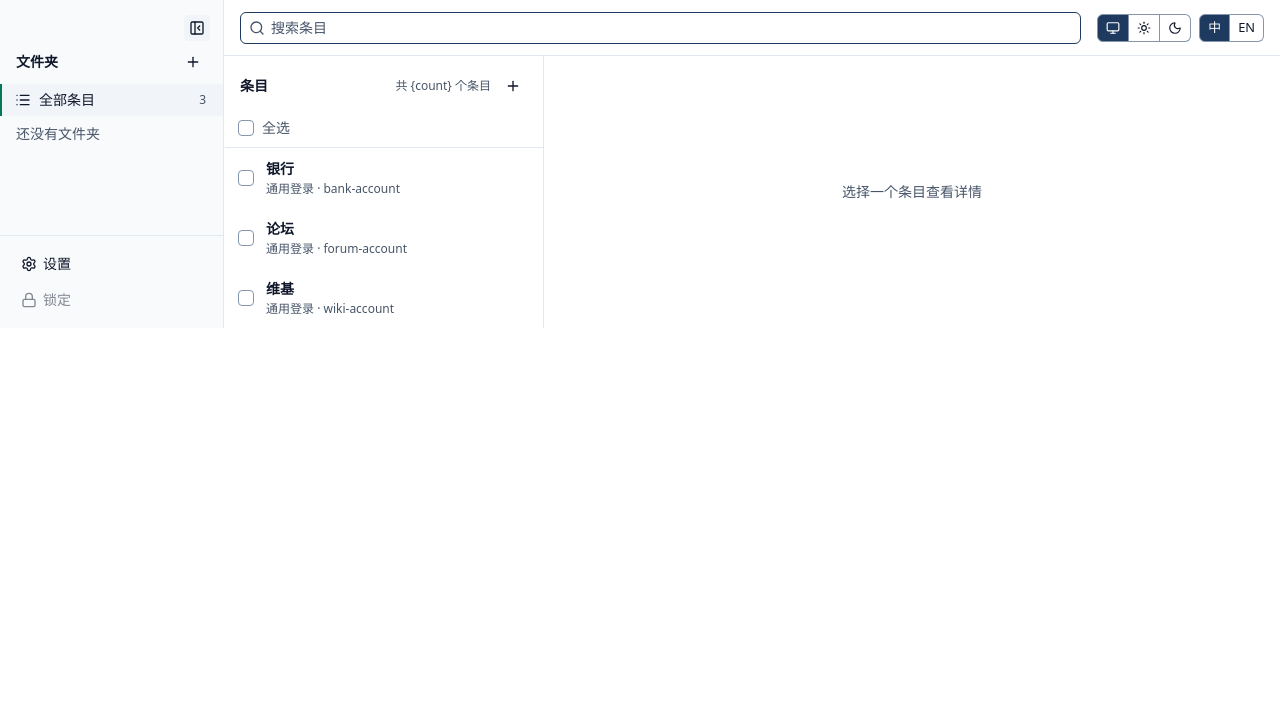
Test: 工作区编辑条目 › 在详情里编辑并保存后, 列表与详情立即显示新值
Click the button "银行 通用登录 · bank-account" at (400, 178), box left=258, top=148, right=543, bottom=208
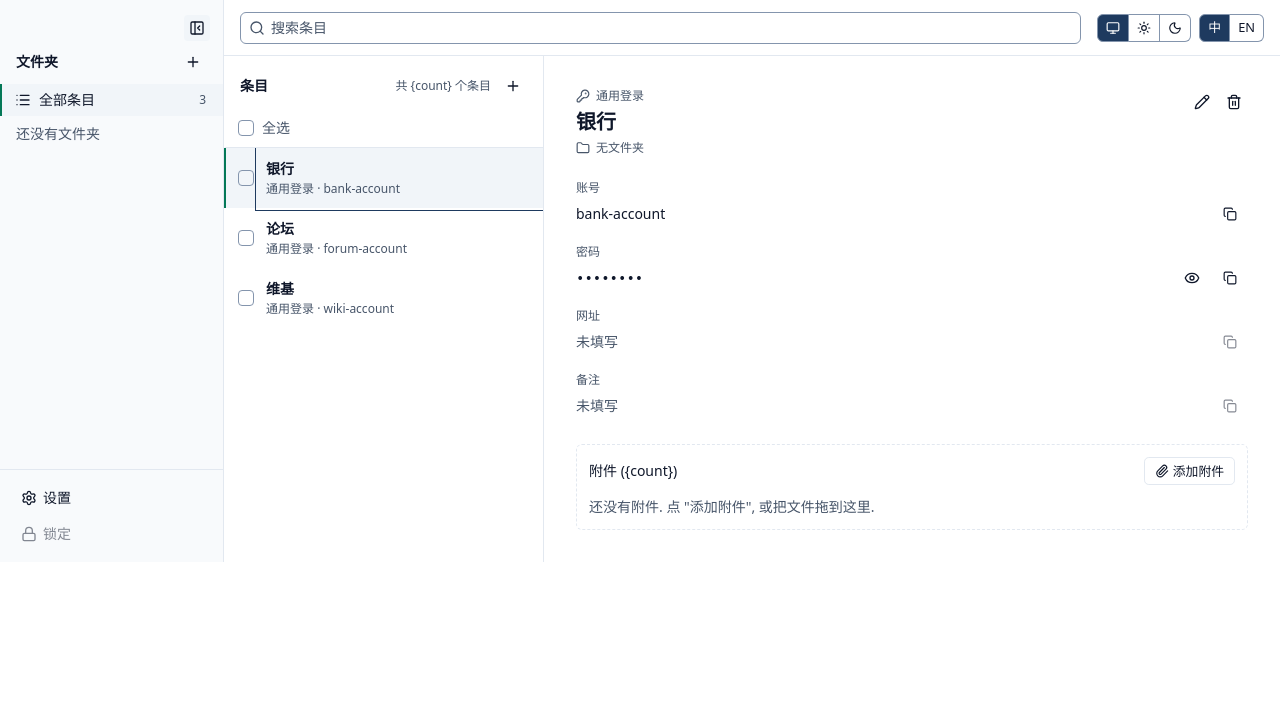
Expected: the heading "银行" is shown, left=576, top=108, right=616, bottom=135
Click the button named "编辑条目" at (1202, 102), box left=1188, top=88, right=1216, bottom=116
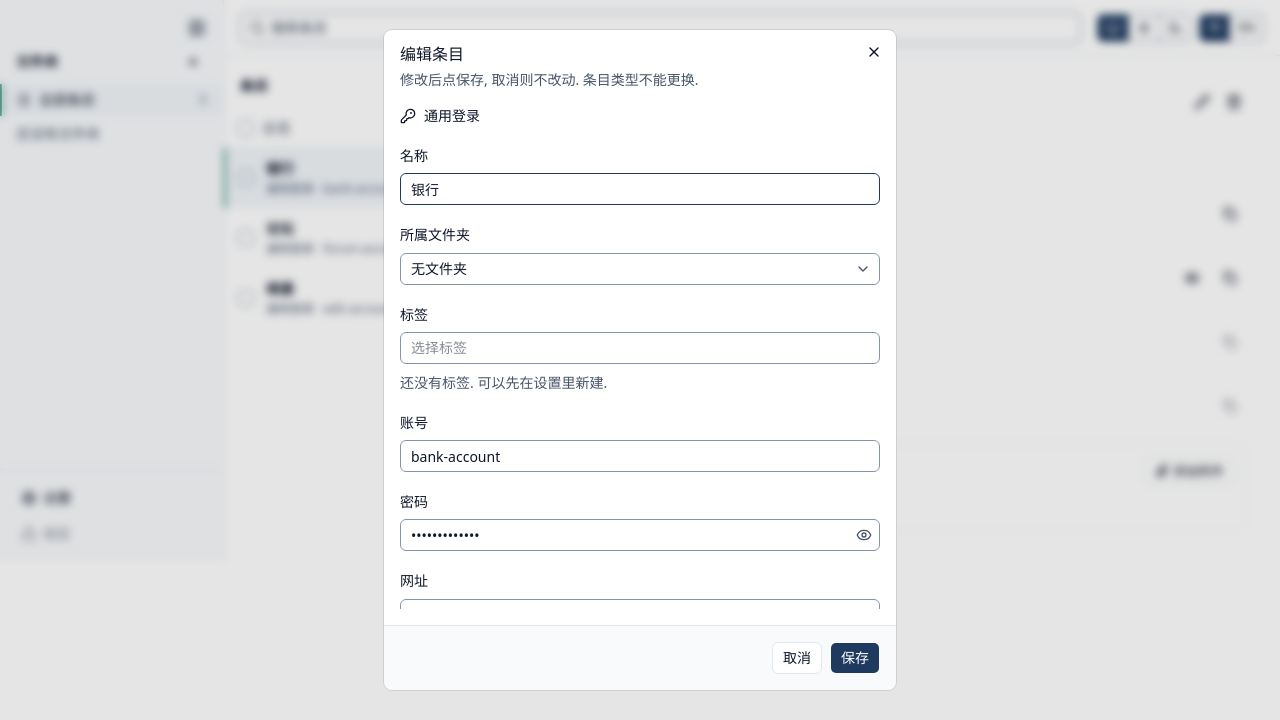
Replace the text in the field labelled "名称" with "新银行" at (640, 189), box left=400, top=173, right=880, bottom=205
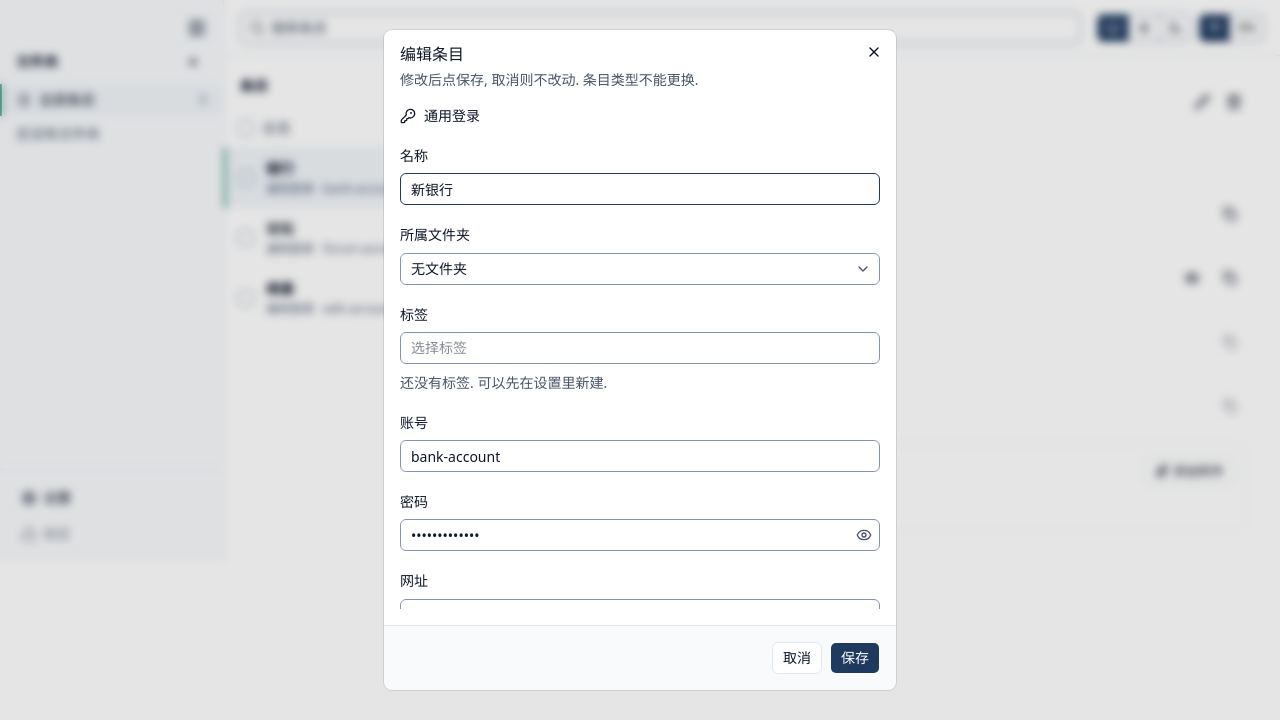
Replace the text in the field labelled "账号" with "new-bank-account" at (640, 456), box left=400, top=440, right=880, bottom=472
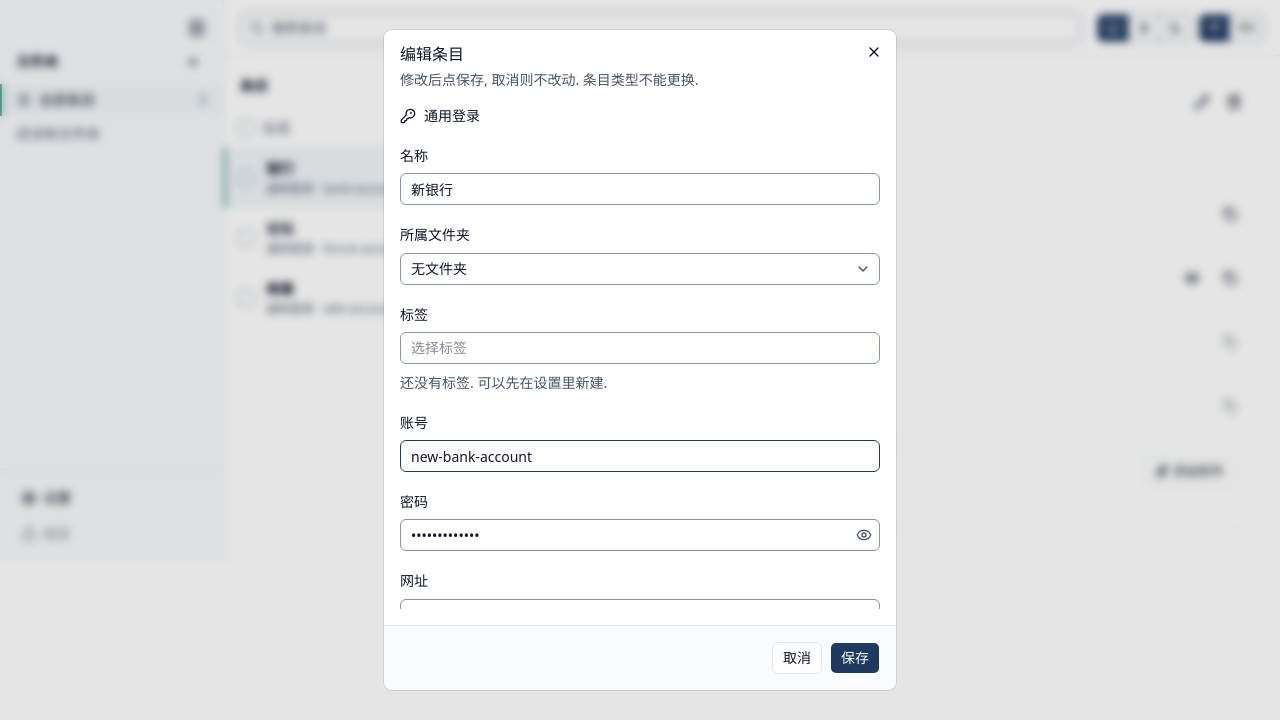
Click the button "保存" at (855, 658), box left=830, top=642, right=880, bottom=674
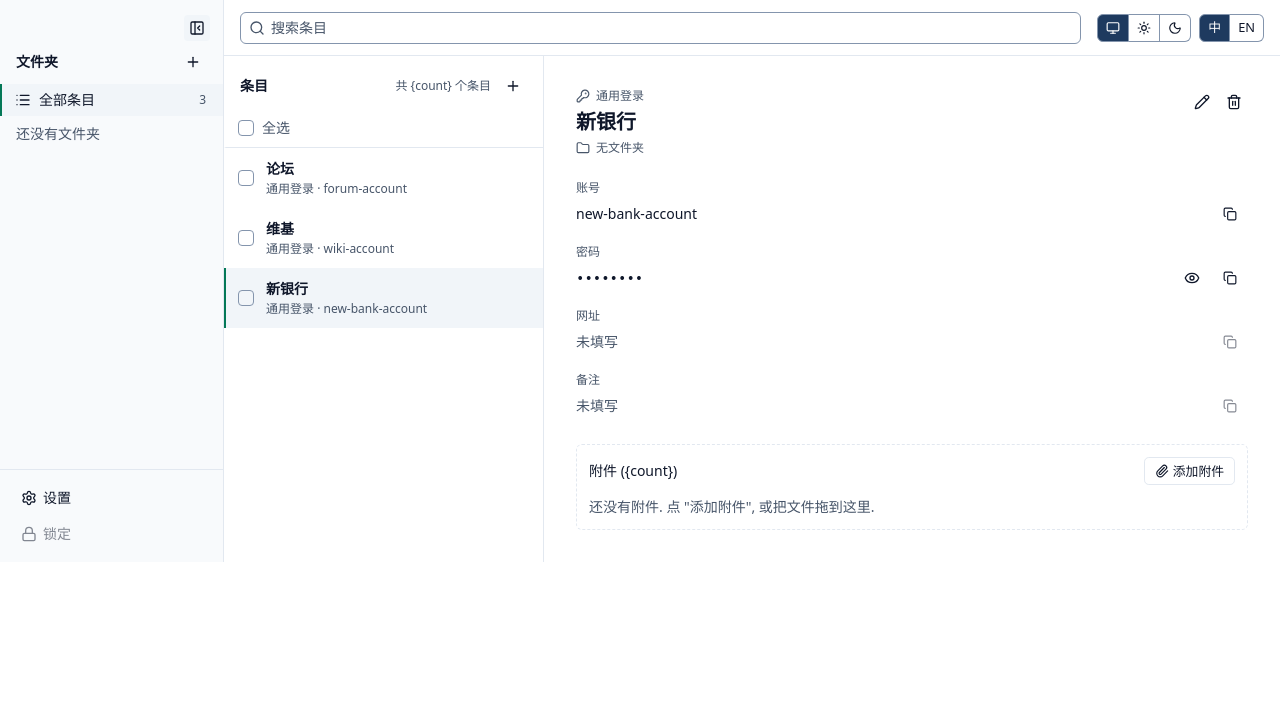
Expected: the dialog is gone
Expected: the heading "新银行" is shown, left=576, top=108, right=644, bottom=136
Expected: the text "new-bank-account" is shown, left=576, top=204, right=697, bottom=223
